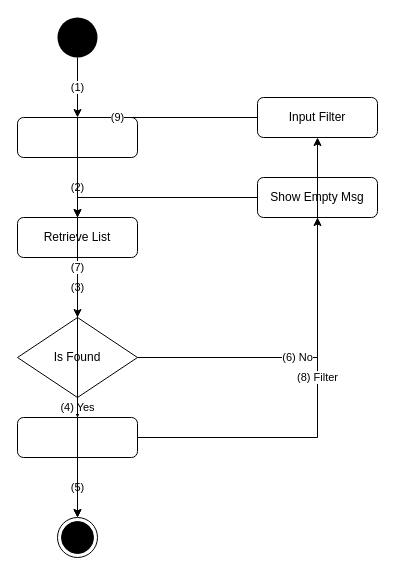
Image size: 395x575. Some labels were removed from this diagram. Here are the shapes that lost their labels. From the top down, the box of each, then its label:
(16, 116, 138, 158): Click Menu
(16, 416, 138, 458): Display Grid
